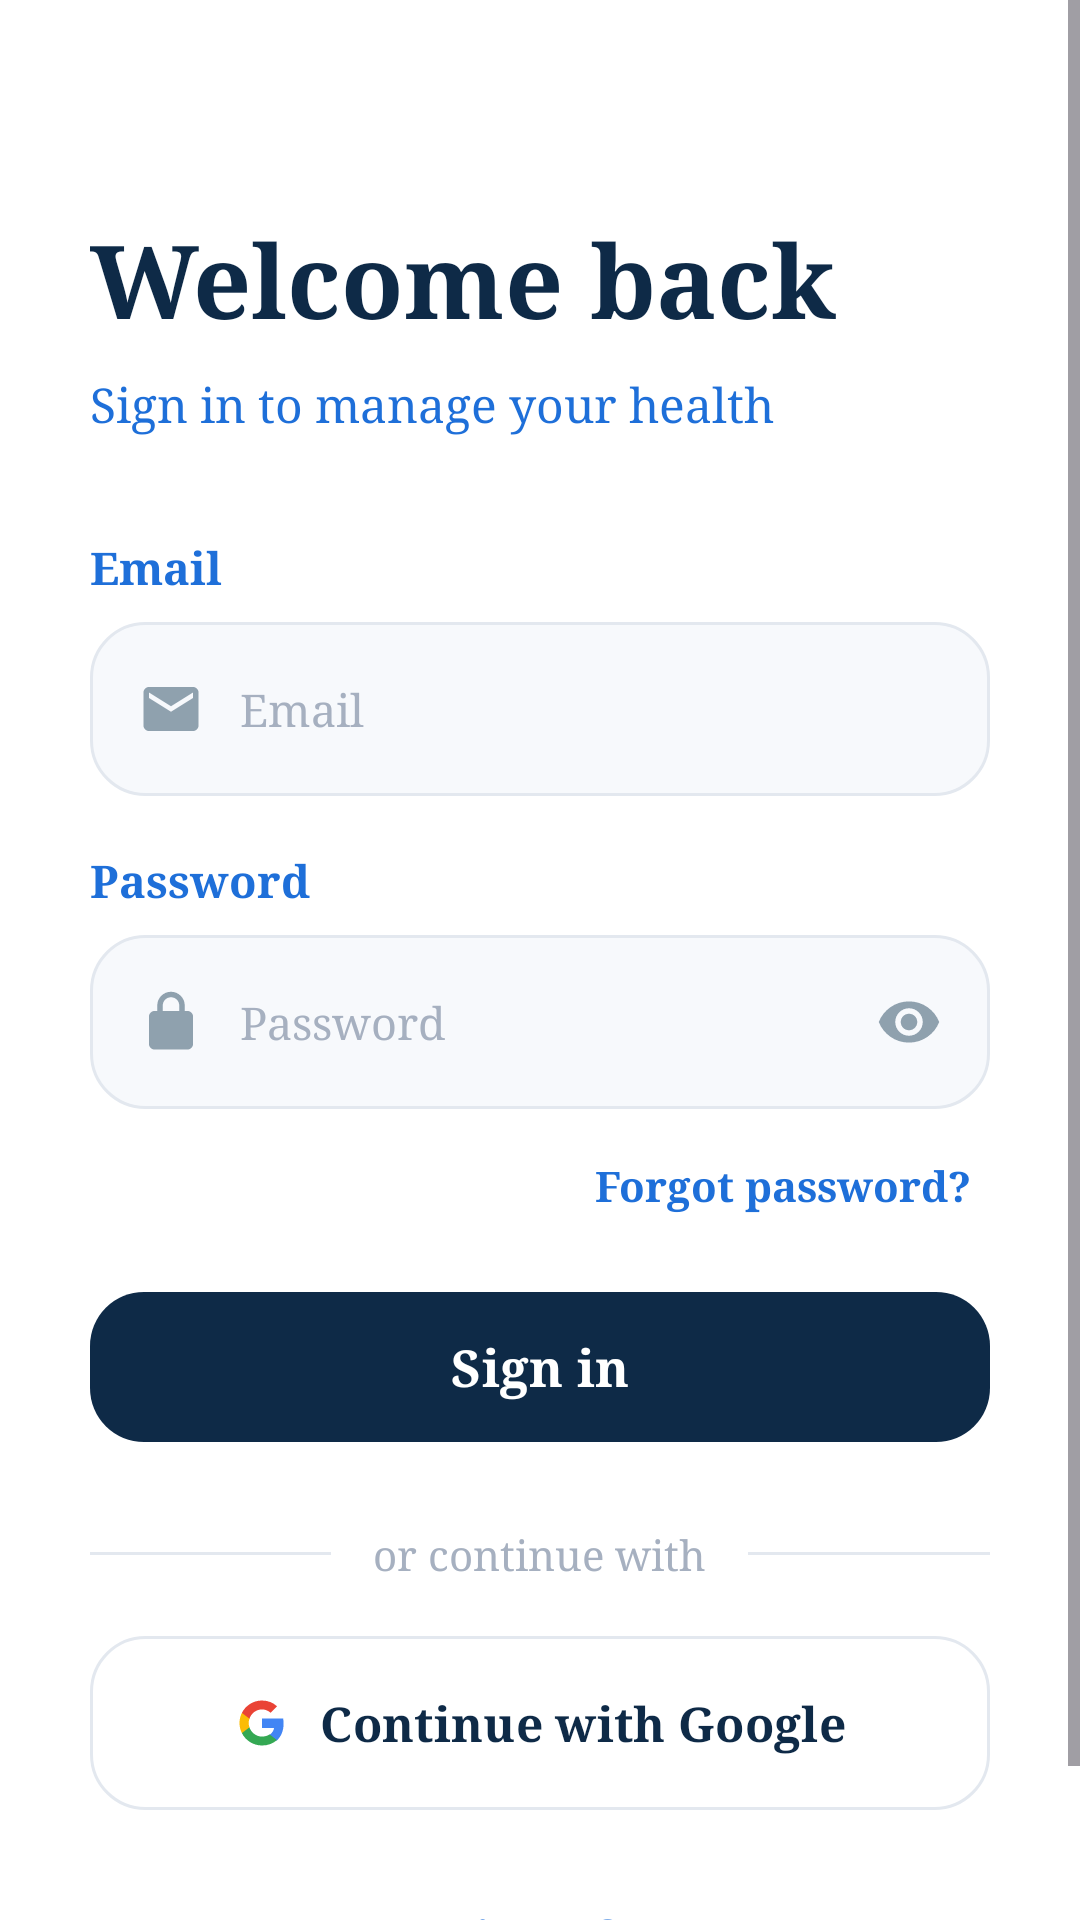

Screen size 1080×1920. Icon name, then its box in pixels as [x1,y1,x2,y2]:
eye: [879,1001,939,1043]
lock: [149,991,193,1050]
